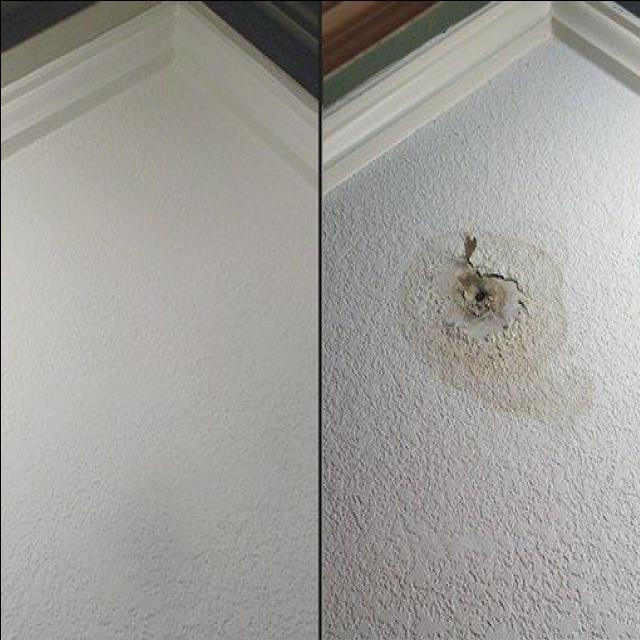Crack: (470, 286, 491, 306)
